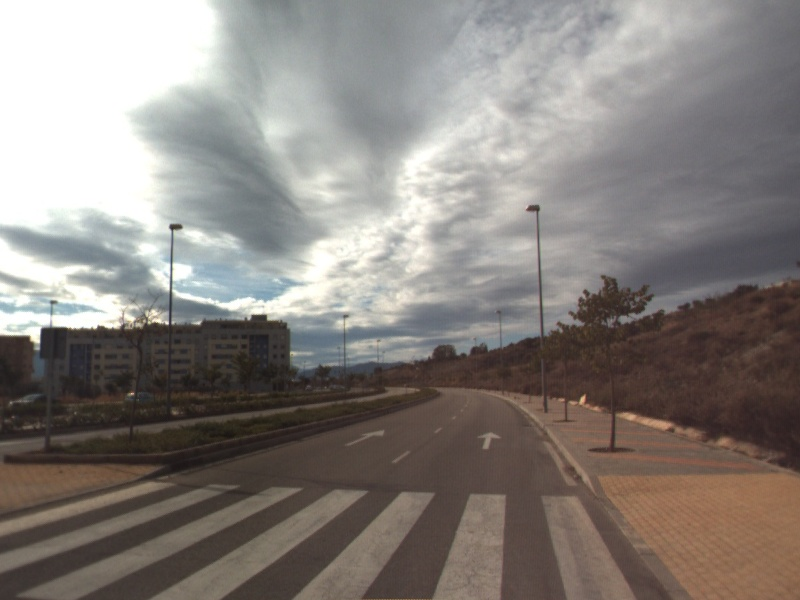STRAIGHT: (343, 427, 386, 447), (475, 430, 504, 451)
